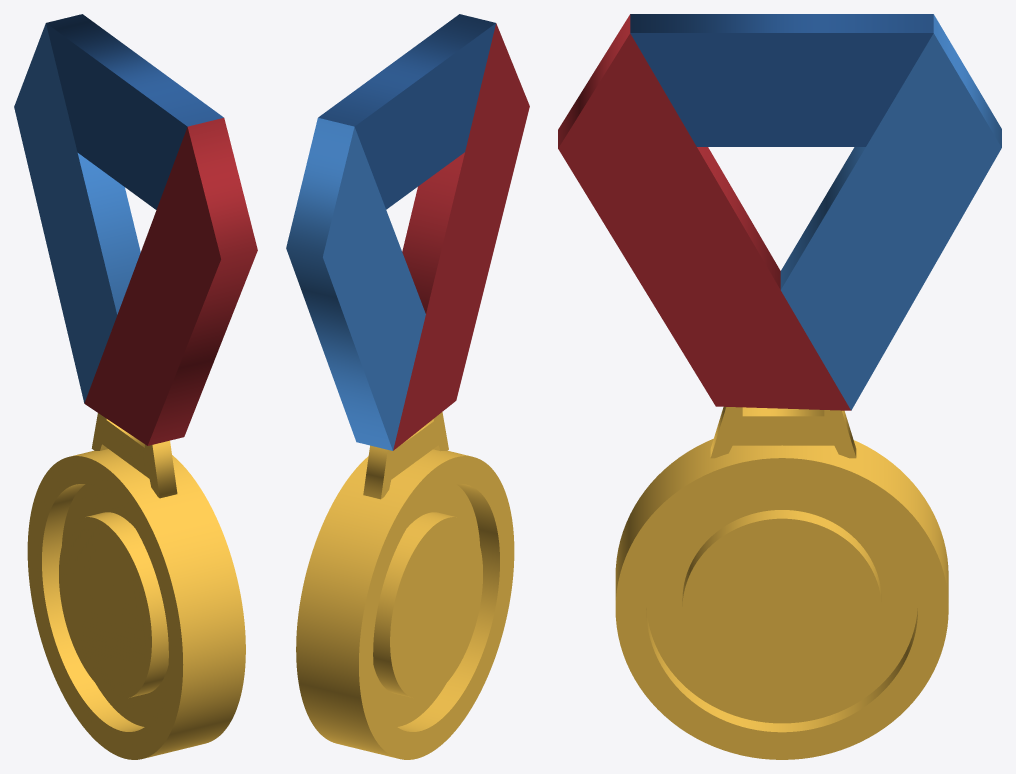
Rendered from sport1.glb.
The picture shows the model from 3 angles, left to right: view 1: azimuth 30°, elevation 25°; view 2: azimuth 150°, elevation 25°; view 3: azimuth 270°, elevation 25°; orthographic projection. The views are drawn at different scales.
Visible parts, largest first — view 1: Cylinder, Curve.001, Curve.002, Curve.003, Curve; view 2: Cylinder, Curve.002, Curve.001, Curve.003, Curve; view 3: Cylinder, Curve.001, Curve.002, Curve.003, Curve.
Part boxes in pixels (x1=…): Cylinder: x1=27, y1=449, x2=245, y2=759; Curve.001: x1=84, y1=118, x2=257, y2=445; Curve.002: x1=14, y1=23, x2=140, y2=402; Curve.003: x1=46, y1=14, x2=223, y2=209; Curve: x1=91, y1=413, x2=177, y2=498; Cylinder: x1=296, y1=449, x2=514, y2=759; Curve.002: x1=286, y1=118, x2=425, y2=450; Curve.001: x1=393, y1=23, x2=529, y2=450; Curve.003: x1=318, y1=14, x2=495, y2=209; Curve: x1=363, y1=412, x2=448, y2=499; Cylinder: x1=615, y1=439, x2=948, y2=759; Curve.001: x1=558, y1=14, x2=850, y2=410; Curve.002: x1=780, y1=14, x2=1001, y2=410; Curve.003: x1=630, y1=14, x2=933, y2=146; Curve: x1=710, y1=406, x2=856, y2=458.
Bounding box in the file's own units: 0.4658 × 4.76 × 2.66.
